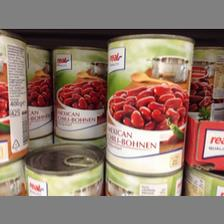Bohnen: (104, 32, 192, 174), (50, 43, 106, 139)
